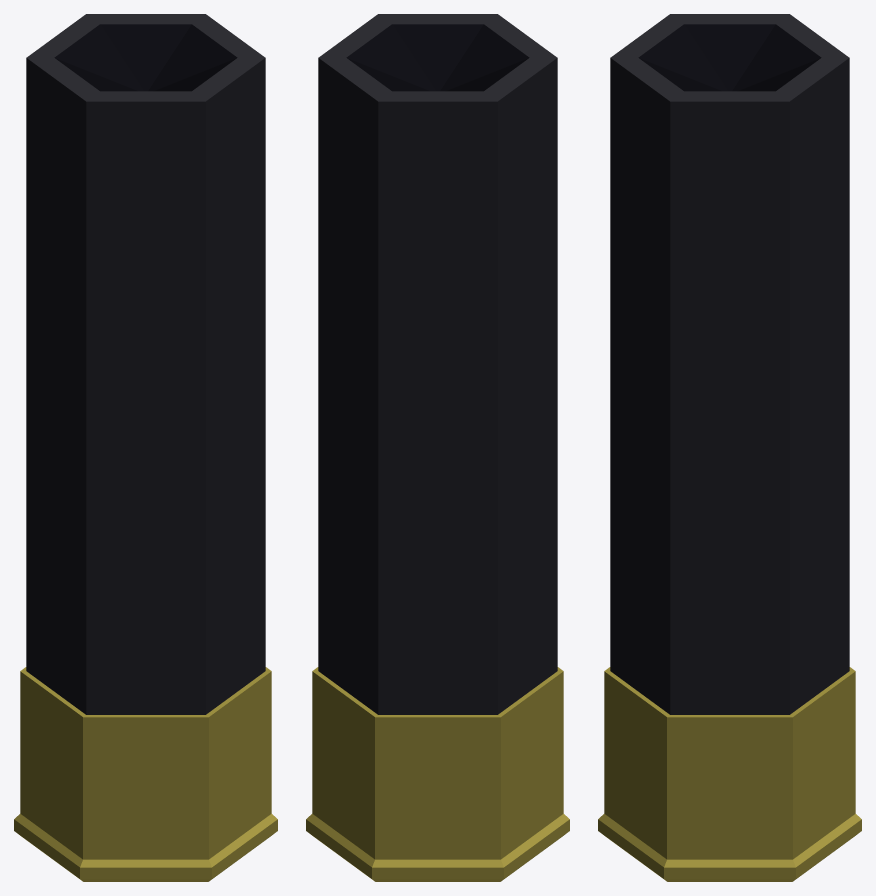
File: MW1_Ammunition_12ga_04.fbx
3 views of the same model, side by side, from view 1: azimuth 30°, elevation 25°; view 2: azimuth 150°, elevation 25°; view 3: azimuth 270°, elevation 25° (orthographic).
Parts seen in each view (by area): view 1: Ammunition_12ga_04; view 2: Ammunition_12ga_04; view 3: Ammunition_12ga_04.
Part boxes in pixels (bbox=[...]): Ammunition_12ga_04: bbox=[14, 14, 277, 881]; Ammunition_12ga_04: bbox=[306, 14, 569, 881]; Ammunition_12ga_04: bbox=[598, 14, 861, 881].
Size of the model in its own units: 1.7 by 6.4 by 1.96.
